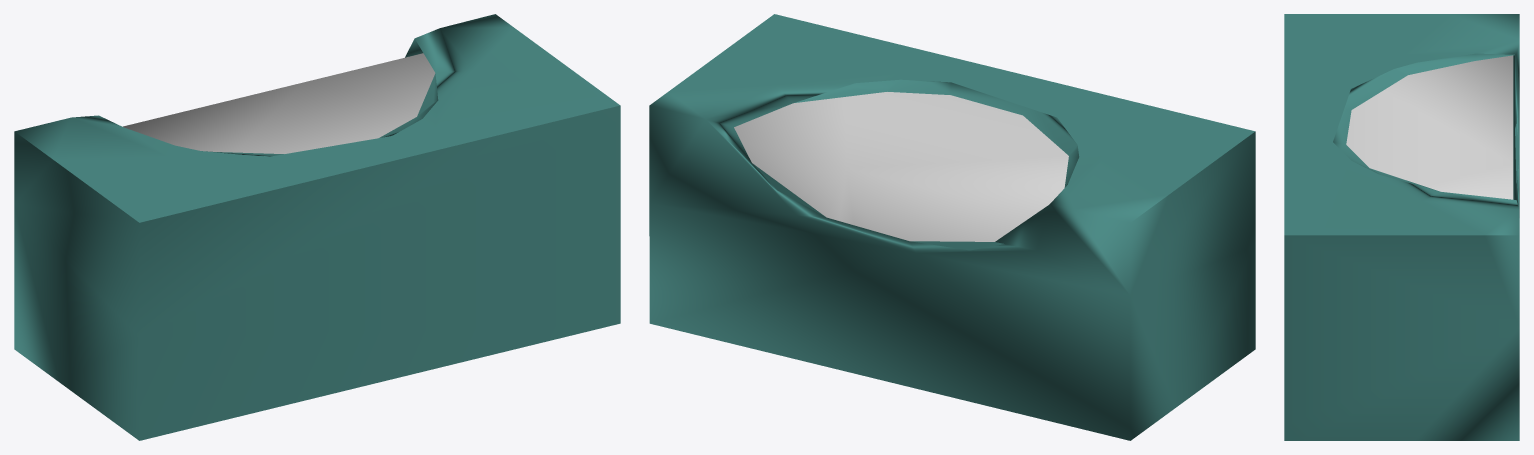
Rendered from TissueBoxRectangle.fbx.
The picture shows the model from 3 angles, left to right: view 1: azimuth 30°, elevation 25°; view 2: azimuth 150°, elevation 25°; view 3: azimuth 270°, elevation 25°; orthographic projection. The views are drawn at different scales.
Visible parts, largest first — view 1: TissueBoxRectangle 1; view 2: TissueBoxRectangle 1; view 3: TissueBoxRectangle 1.
Boxes of the visible parts, x1,y1,x2,y2 form: TissueBoxRectangle 1: (14,14,620,440); TissueBoxRectangle 1: (649,14,1255,440); TissueBoxRectangle 1: (1284,14,1519,440).
Bounding box in the file's own units: 30 × 13 × 13.5.
